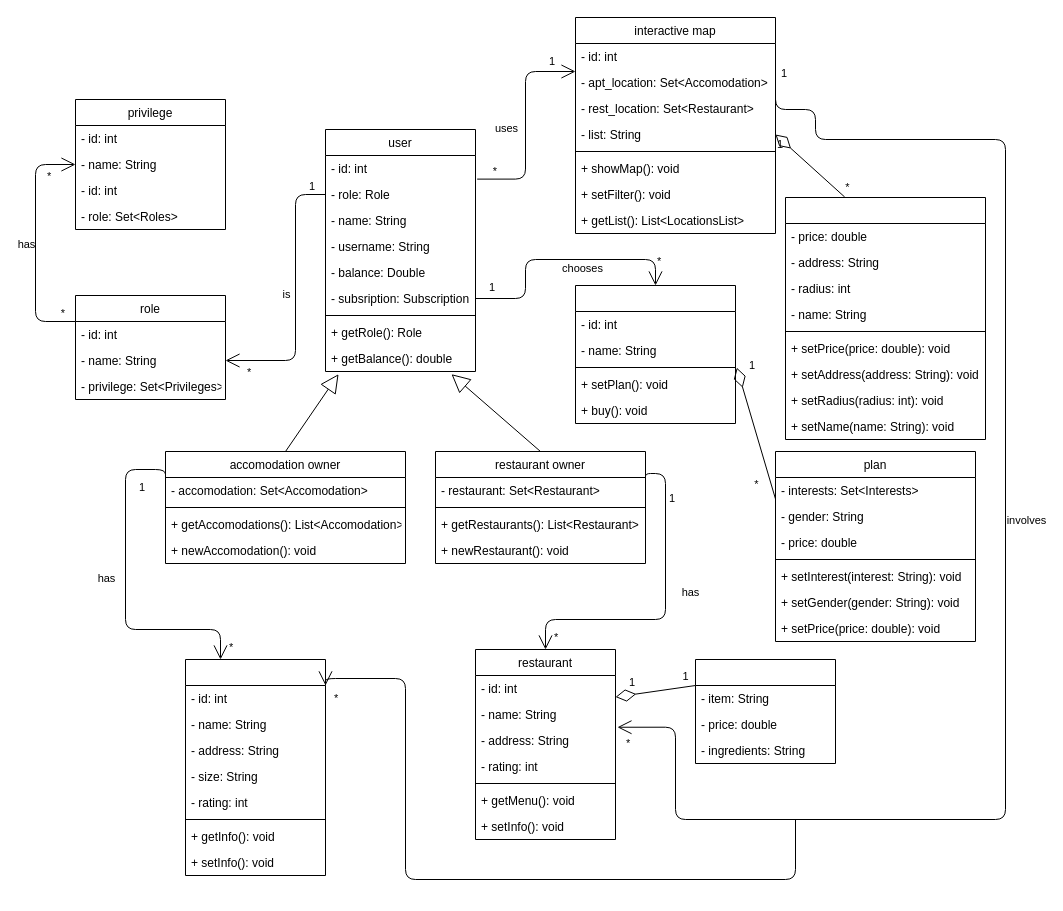
This 1063x911 diagram has some shape labels left out. Each missing label, with the box of its shape:
accomodation: (184, 658, 326, 876)
filter: (784, 196, 986, 440)
menu: (694, 658, 836, 764)
subscription: (574, 284, 736, 424)
